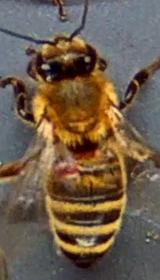varroa_mite: (43, 153, 79, 182)
